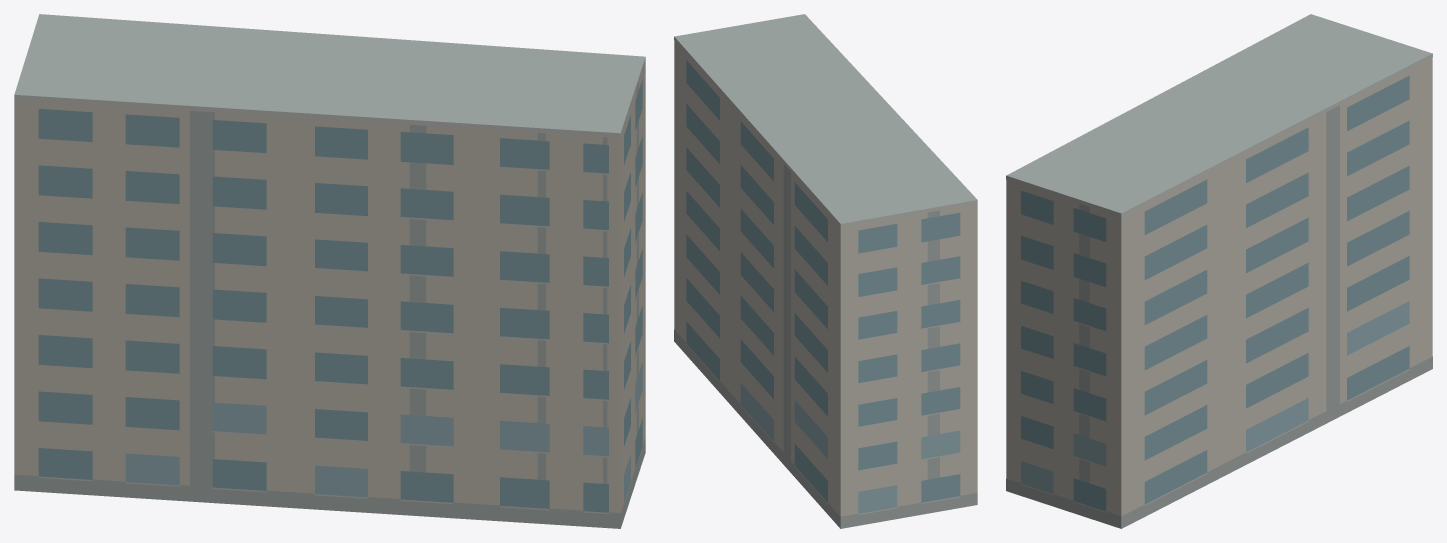
Rendered from survey-upis-32809990.glb.
The picture shows the model from 3 angles, left to right: view 1: azimuth 30°, elevation 25°; view 2: azimuth 150°, elevation 25°; view 3: azimuth 270°, elevation 25°; orthographic projection. The views are drawn at different scales.
Visible parts, largest first — view 1: survey-upis-32809990.tmp; view 2: survey-upis-32809990.tmp; view 3: survey-upis-32809990.tmp.
Boxes of the visible parts, bbox=[...] form: survey-upis-32809990.tmp: bbox=[14, 14, 645, 528]; survey-upis-32809990.tmp: bbox=[674, 14, 977, 528]; survey-upis-32809990.tmp: bbox=[1006, 14, 1432, 528].
Size of the model in its own units: 26.58 by 19.6 by 24.03.
